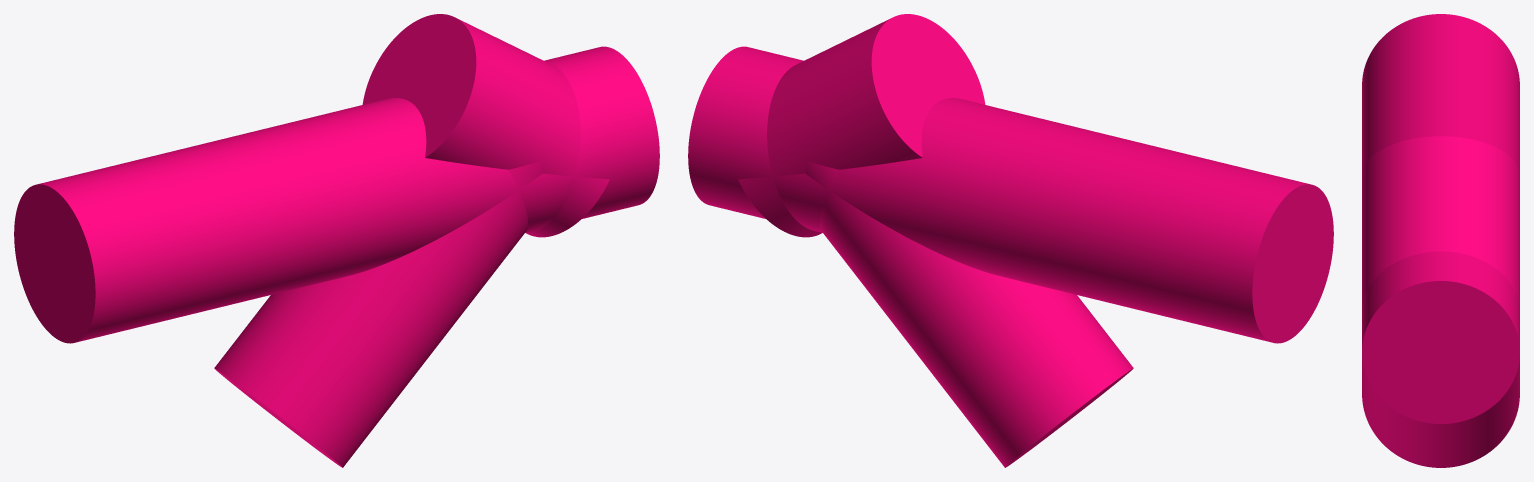
Rendered from PointerMarker.obj.
3 renders of one model, left to right at view 1: azimuth 30°, elevation 25°; view 2: azimuth 150°, elevation 25°; view 3: azimuth 270°, elevation 25°, orthographic. The views are drawn at different scales.
Parts seen in each view (by area): view 1: physical_pointer_fractal; view 2: physical_pointer_fractal; view 3: physical_pointer_fractal.
Boxes of the visible parts, box(x1,y1,x2,y2) form: physical_pointer_fractal: box(14, 14, 659, 467); physical_pointer_fractal: box(688, 14, 1333, 467); physical_pointer_fractal: box(1362, 14, 1519, 467).
Size of the model in its own units: 0.15 by 0.1032 by 0.0375.
